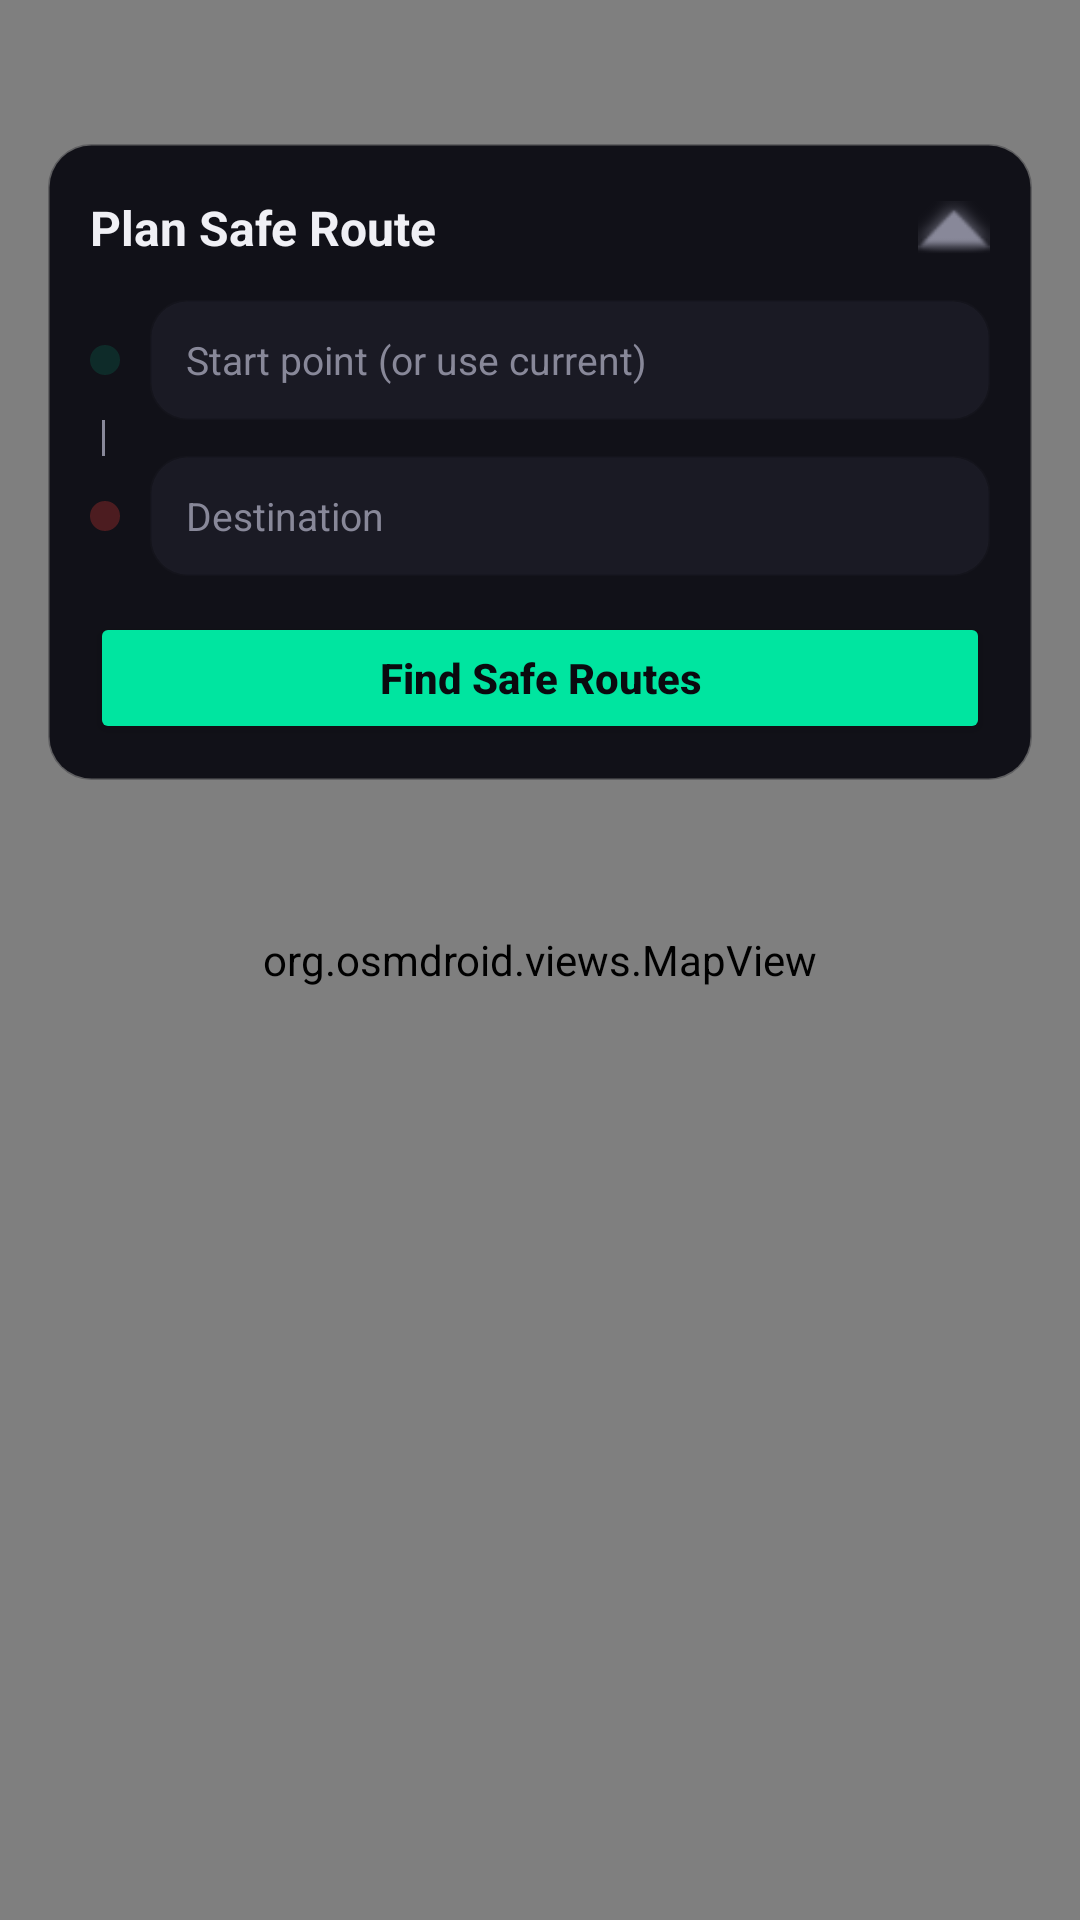

Icon bounding boxes for this 1080px×1920px phone screenshot, format BBox(x1, y1, x2, y2):
arrow up float: BBox(918, 207, 990, 250)
